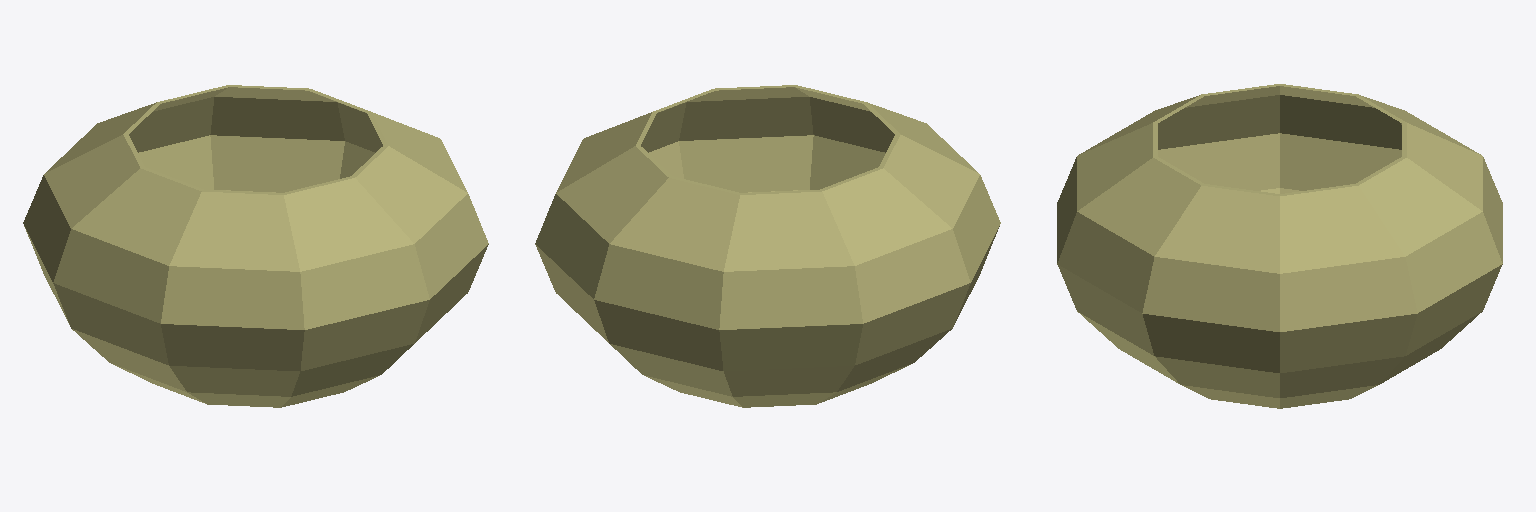
3 views of the same model, side by side, from view 1: azimuth 30°, elevation 25°; view 2: azimuth 150°, elevation 25°; view 3: azimuth 270°, elevation 25° (orthographic).
Parts seen in each view (by area): view 1: Cylinder001; view 2: Cylinder001; view 3: Cylinder001.
Part boxes in pixels (x1,y1,x2,y2): Cylinder001: (23, 85, 488, 407); Cylinder001: (535, 85, 1000, 407); Cylinder001: (1057, 84, 1502, 408).
Bounding box in the file's own units: 257 × 140 × 244.
Materials: 1 (1 with a texture image).